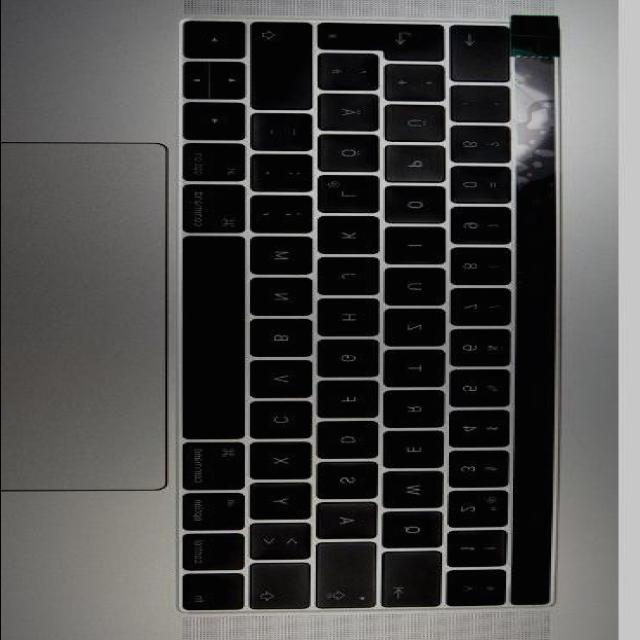0: (455, 168, 519, 207)
1: (452, 533, 514, 570)
2: (452, 492, 516, 531)
3: (452, 453, 516, 491)
4: (453, 413, 517, 451)
5: (453, 372, 517, 411)
6: (455, 331, 517, 371)
7: (455, 290, 517, 329)
8: (455, 249, 517, 288)
9: (455, 209, 519, 248)
a: (320, 505, 384, 542)
accent: (455, 88, 517, 126)
ae: (322, 96, 386, 135)
alt-left: (185, 494, 251, 533)
altgr-right: (185, 145, 253, 186)
b: (254, 321, 320, 361)
c: (253, 404, 319, 443)
caret: (452, 573, 512, 609)
comma: (254, 198, 320, 238)
d: (320, 424, 386, 462)
del: (455, 28, 517, 86)
e: (388, 433, 452, 472)
enter: (320, 26, 452, 65)
f: (322, 383, 386, 421)
g: (320, 342, 386, 381)
h: (320, 302, 386, 340)
hash: (322, 57, 386, 95)
i: (389, 230, 453, 268)
j: (322, 261, 386, 299)
k: (322, 218, 388, 258)
keyboard: (168, 10, 568, 623)
l: (322, 178, 386, 217)
less: (255, 525, 319, 564)
m: (254, 239, 320, 279)
minus: (256, 116, 320, 156)
n: (255, 280, 319, 320)
o: (389, 189, 453, 228)
oe: (320, 137, 386, 176)
p: (389, 147, 453, 186)
plus: (390, 67, 452, 105)
point: (256, 157, 320, 196)
q: (386, 514, 450, 552)
r: (388, 392, 452, 431)
s: (320, 464, 384, 502)
shift-left: (253, 565, 317, 615)
shift-lock: (319, 544, 383, 611)
shift-right: (254, 25, 322, 115)
space: (185, 239, 251, 443)
ss: (455, 128, 517, 167)
strg-left: (185, 535, 251, 574)
t: (390, 352, 452, 390)
tab: (386, 554, 450, 612)
u: (388, 270, 454, 309)
ue: (389, 107, 453, 145)
v: (254, 362, 320, 401)
w: (386, 475, 452, 512)
x: (255, 444, 319, 483)
y: (255, 485, 319, 523)
z: (390, 311, 452, 350)
